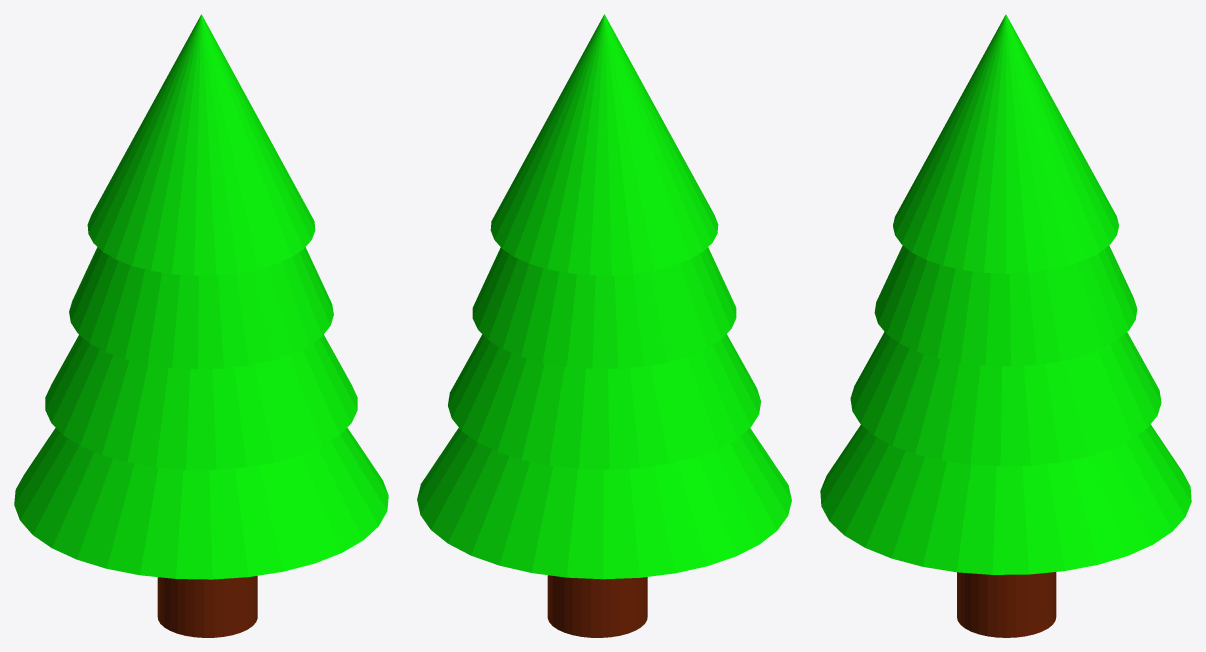
File: Tree.fbx
The picture shows the model from 3 angles, left to right: view 1: azimuth 30°, elevation 25°; view 2: azimuth 150°, elevation 25°; view 3: azimuth 270°, elevation 25°; orthographic projection.
Visible parts, largest first — view 1: Cone, Cone.003, Cone.001, Cone.002, Cylinder; view 2: Cone, Cone.003, Cone.001, Cone.002, Cylinder; view 3: Cone, Cone.003, Cone.001, Cone.002, Cylinder.
Part boxes in pixels (x1,y1,x2,y2): Cone: (14,427,388,579); Cone.003: (87,14,315,275); Cone.001: (45,335,357,469); Cone.002: (69,247,333,369); Cylinder: (157,576,257,637); Cone: (417,428,791,579); Cone.003: (490,14,718,275); Cone.001: (448,334,760,469); Cone.002: (472,247,736,368); Cylinder: (547,575,647,637); Cone: (820,424,1191,574); Cone.003: (893,14,1118,273); Cone.001: (850,332,1161,466); Cone.002: (874,245,1137,366); Cylinder: (957,572,1056,637).
Bounding box in the file's own units: 944 × 1683 × 944.
